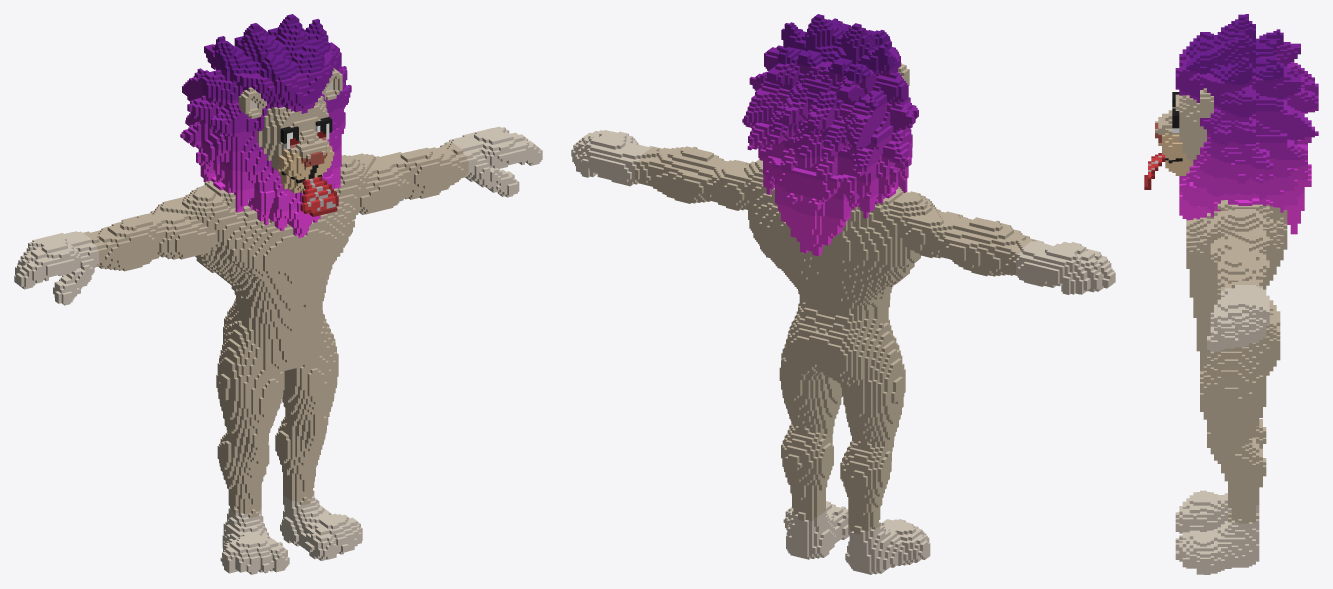
The model's file is 712-C3cmbFV5.glb.
3 views of the same model, side by side, from view 1: azimuth 30°, elevation 25°; view 2: azimuth 150°, elevation 25°; view 3: azimuth 270°, elevation 25° (orthographic). The views are drawn at different scales.
Parts seen in each view (by area): view 1: meat; view 2: meat; view 3: meat.
Boxes of the visible parts, left/top/right/bottom form: meat: left=14, top=14, right=542, bottom=574; meat: left=571, top=14, right=1115, bottom=574; meat: left=1144, top=14, right=1318, bottom=574.
Size of the model in its own units: 17.2 by 16.5 by 5.
4 materials, 4 textured.
